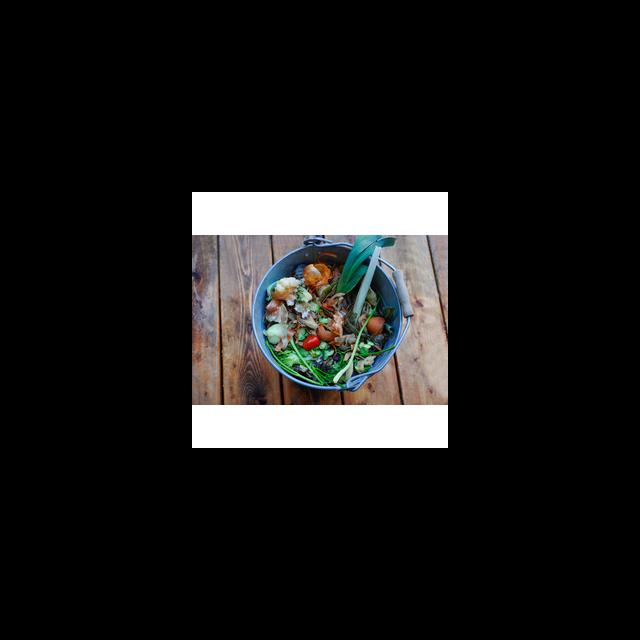food_waste: (268, 254, 389, 382)
